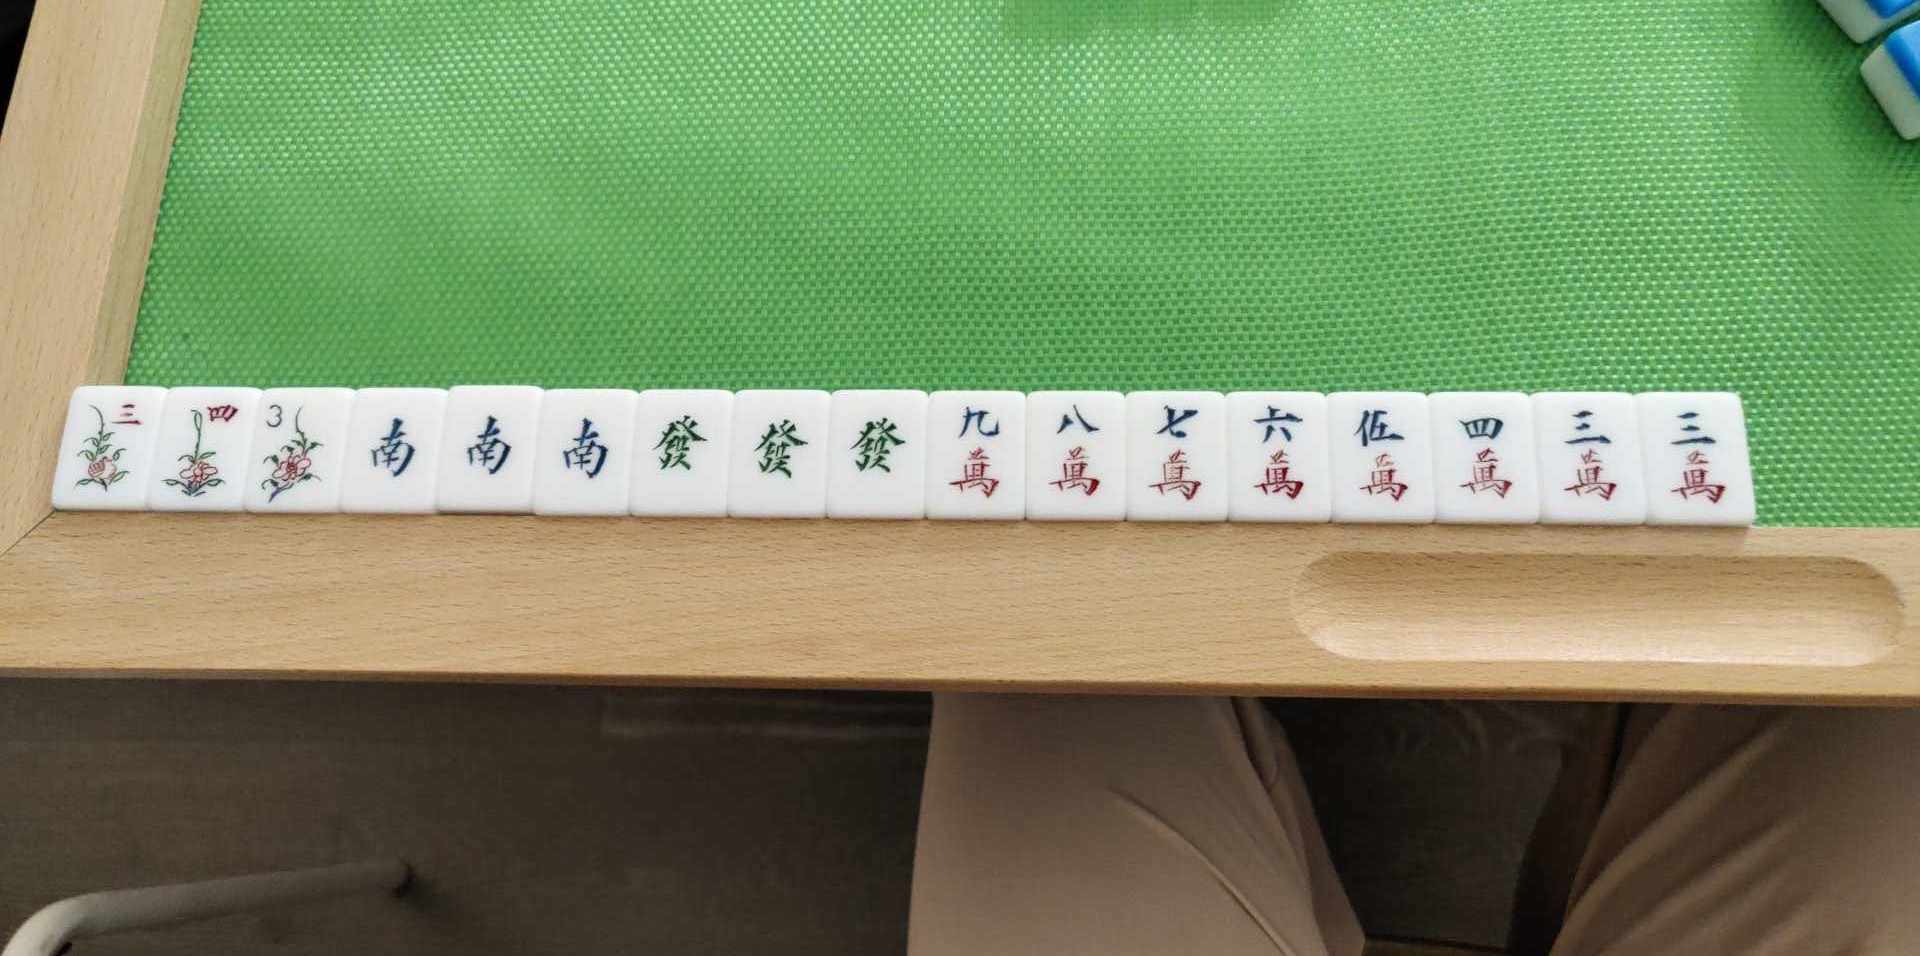character-eight: (1030, 392, 1122, 515)
character-five: (1331, 394, 1427, 519)
character-four: (1439, 393, 1529, 518)
character-nine: (927, 394, 1022, 517)
character-seven: (1127, 394, 1223, 517)
character-six: (1229, 394, 1325, 519)
character-three: (1652, 397, 1742, 518), (1545, 395, 1633, 518)
flower-blue_three: (253, 392, 332, 510)
flower-red_four: (154, 390, 244, 509)
flower-red_three: (72, 388, 149, 507)
honor-green_dragon: (827, 393, 923, 517), (632, 393, 730, 512), (735, 394, 822, 514)
honor-south_wind: (536, 392, 628, 510), (345, 390, 433, 510), (444, 389, 528, 510)
